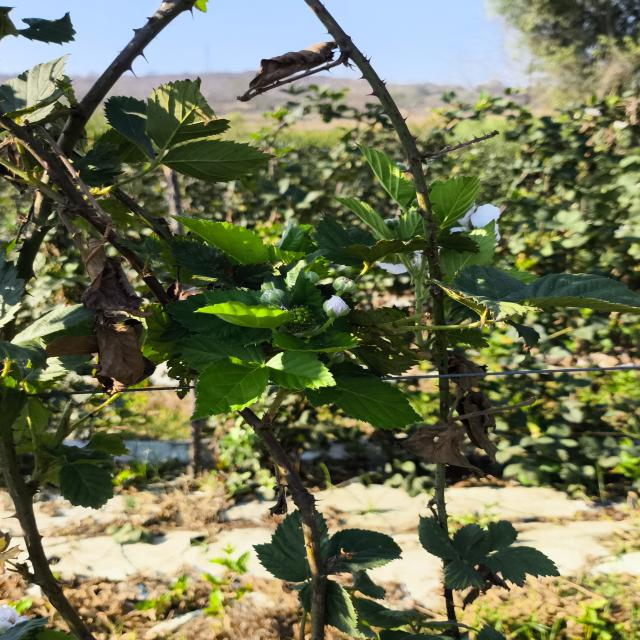boton: (323, 296, 350, 318), (332, 276, 356, 294), (260, 289, 284, 304), (299, 271, 320, 284)
